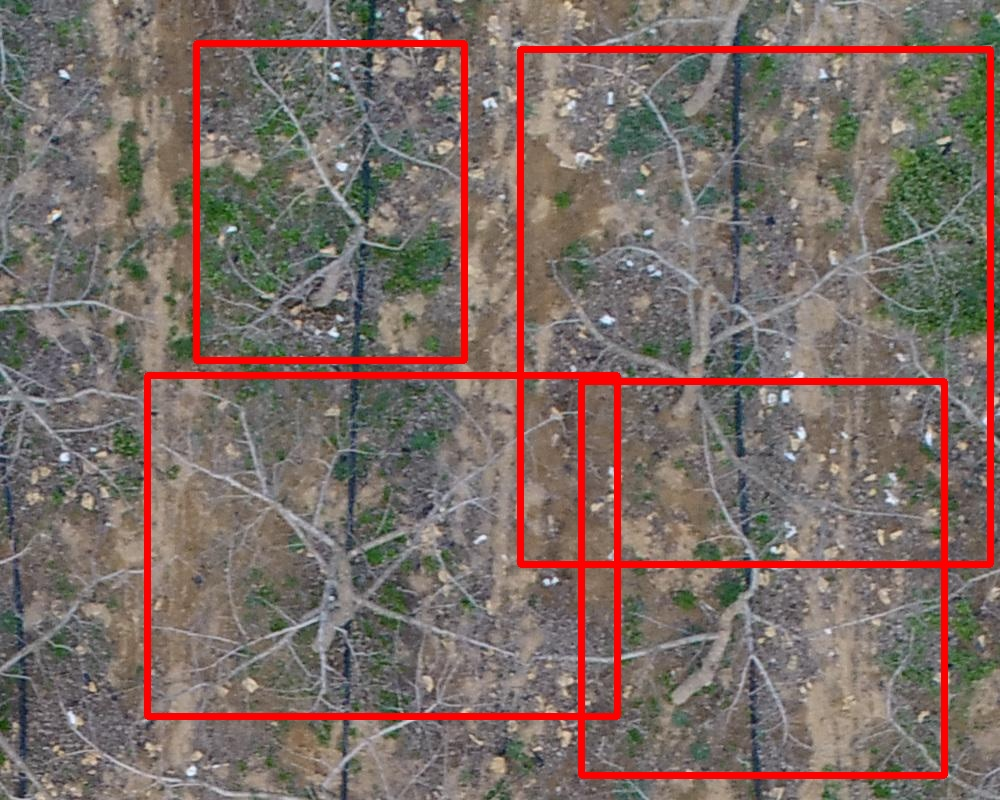apple: (520, 49, 990, 564), (147, 375, 617, 716), (581, 381, 944, 775), (196, 43, 464, 360)
